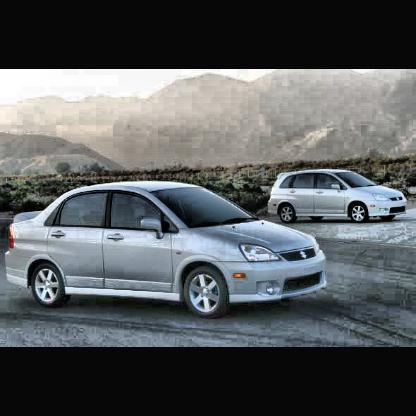Suzuki Aerio Sedan 2007: (7, 181, 329, 320)
